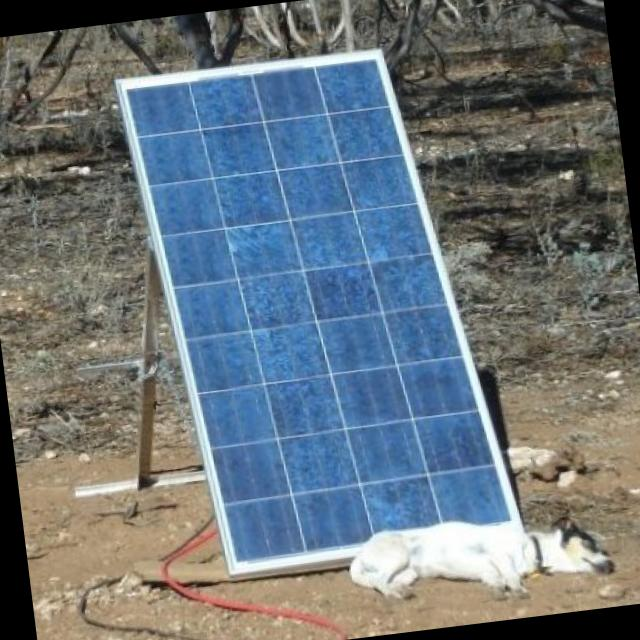no faulty: (129, 59, 506, 551)
